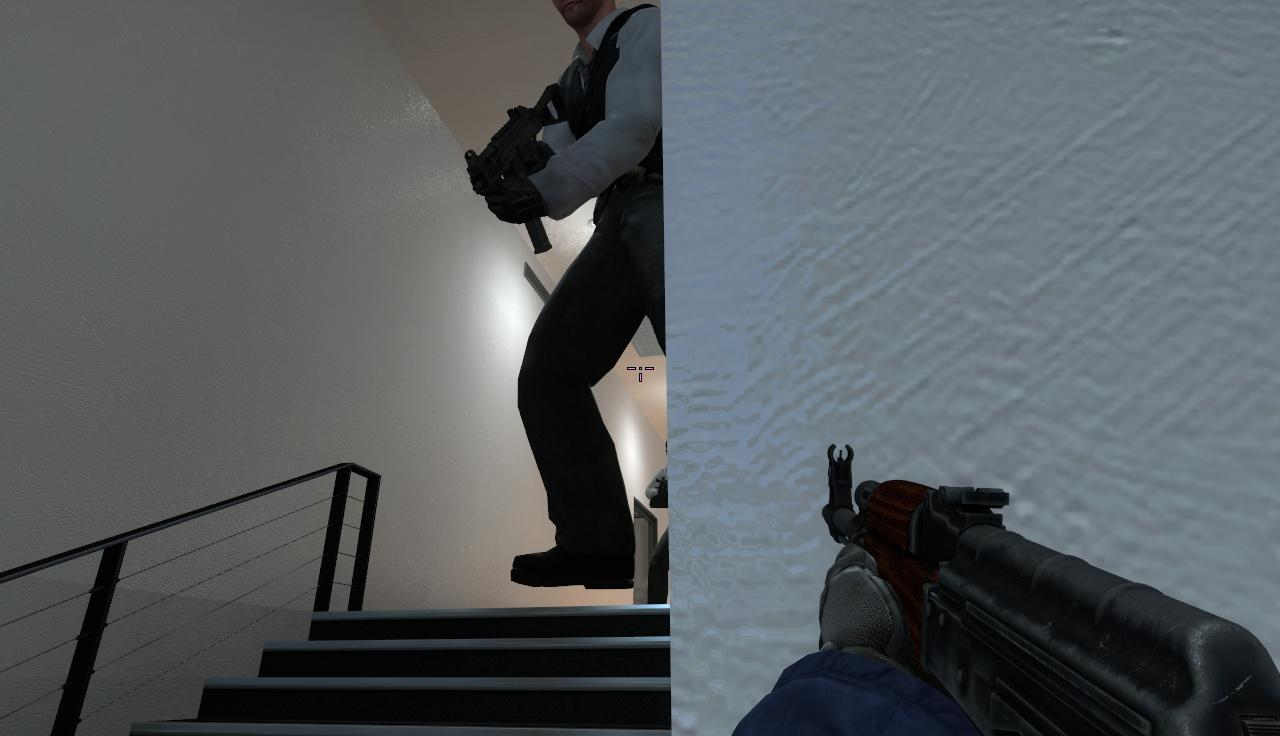rifle: (817, 442, 1280, 736)
tt: (510, 0, 661, 587)
